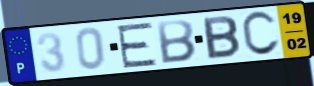0: (74, 26, 108, 73)
3: (36, 31, 68, 75)
B: (156, 18, 198, 65), (202, 14, 242, 61)
C: (239, 10, 282, 59)
E: (114, 20, 159, 70)
